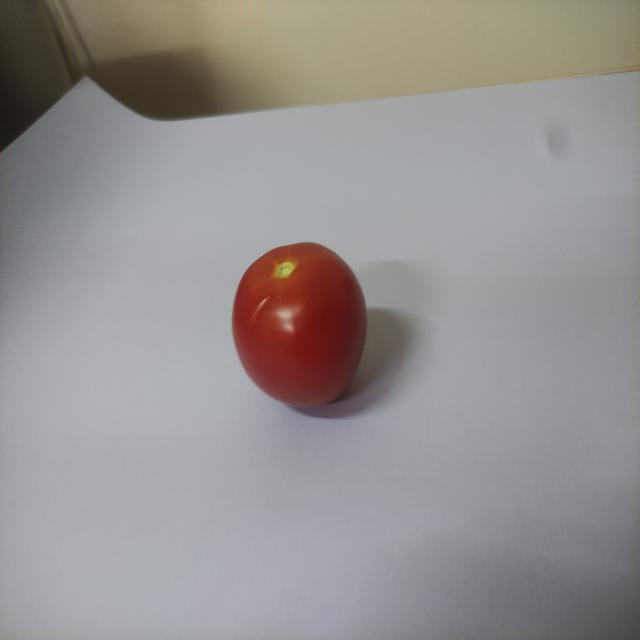kirmizi: (213, 230, 388, 430)
